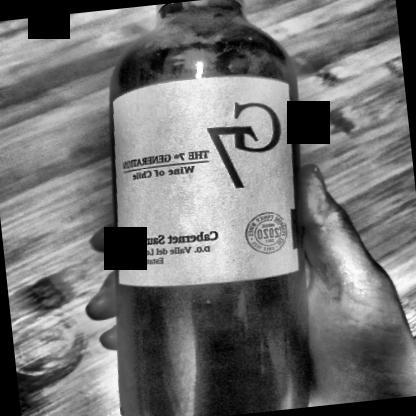G7: (96, 68, 308, 295)
